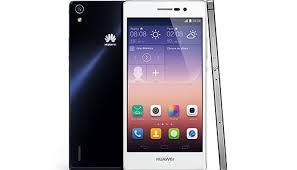huawei: (121, 1, 209, 170), (66, 1, 124, 170)
